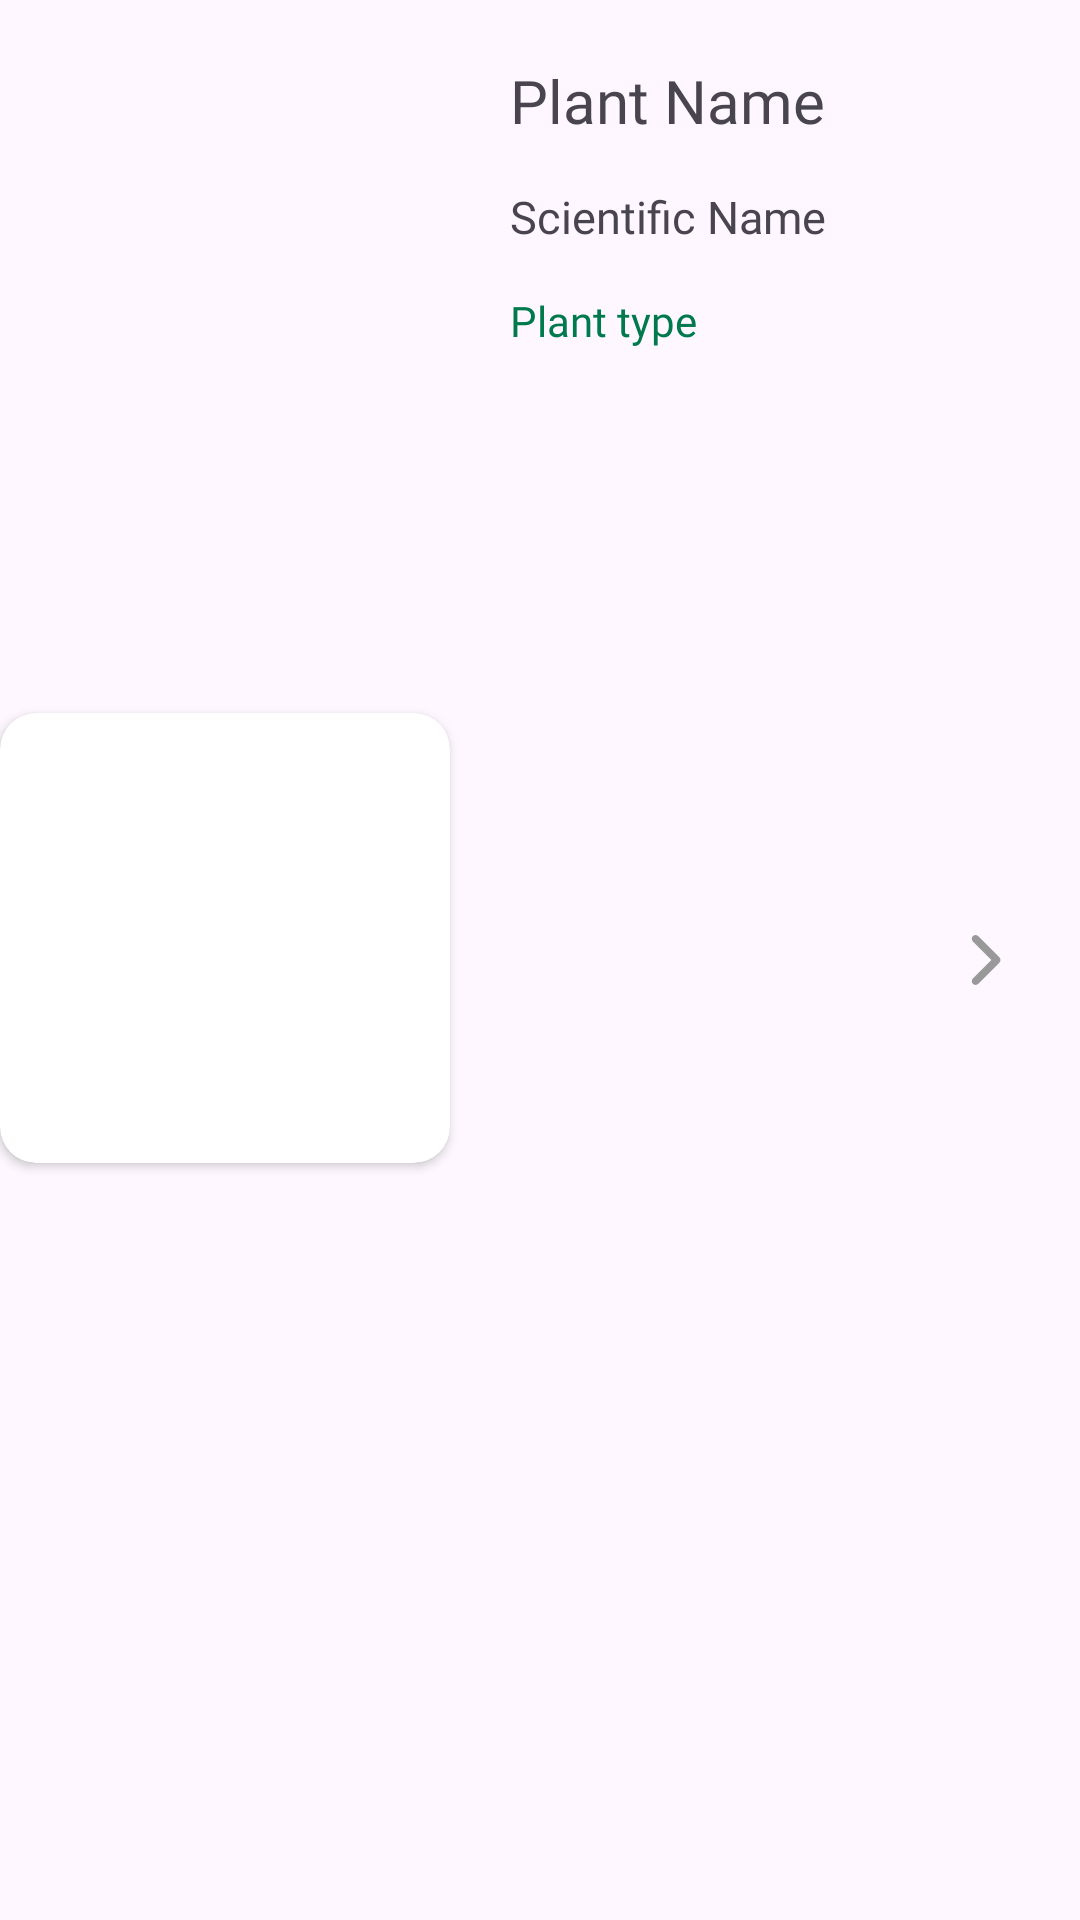

Icons on this 1080 × 1920 Android screen, each with its box as [x1,y1,x2,y2]:
arrowgo: [972,935,1001,985]
